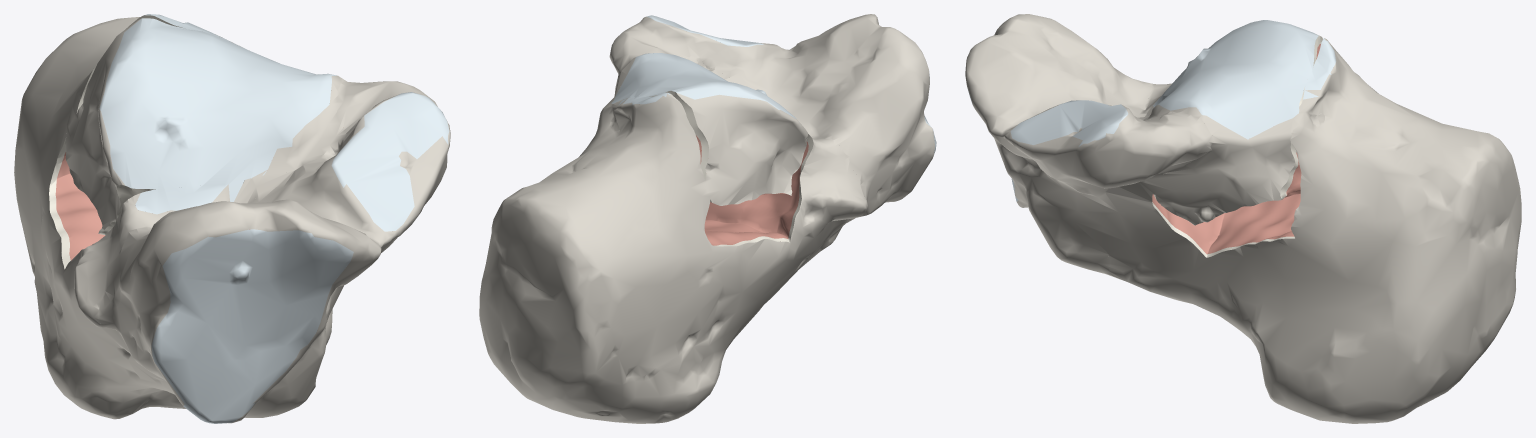
The model's file is S-IIC_young.glb.
3 views of the same model, side by side, from view 1: azimuth 30°, elevation 25°; view 2: azimuth 150°, elevation 25°; view 3: azimuth 270°, elevation 25° (orthographic). The views are drawn at different scales.
Parts seen in each view (by area): view 1: calcaneus: sustentacular fragment, calcaneus: depressed lateral joint fragment, calcaneus: tuberosity; view 2: calcaneus: tuberosity, calcaneus: sustentacular fragment, calcaneus: depressed lateral joint fragment; view 3: calcaneus: tuberosity, calcaneus: sustentacular fragment, calcaneus: depressed lateral joint fragment.
Boxes of the visible parts, box(x1,y1,x2,y2) form: calcaneus: sustentacular fragment: box(98, 78, 450, 423); calcaneus: depressed lateral joint fragment: box(65, 18, 348, 235); calcaneus: tuberosity: box(14, 14, 348, 419); calcaneus: tuberosity: box(479, 53, 867, 423); calcaneus: sustentacular fragment: box(609, 14, 936, 245); calcaneus: depressed lateral joint fragment: box(601, 53, 807, 205); calcaneus: tuberosity: box(1102, 38, 1521, 423); calcaneus: sustentacular fragment: box(965, 14, 1213, 277); calcaneus: depressed lateral joint fragment: box(1143, 20, 1325, 225).
Size of the model in its own units: 0.0475 by 0.0513 by 0.0757.
